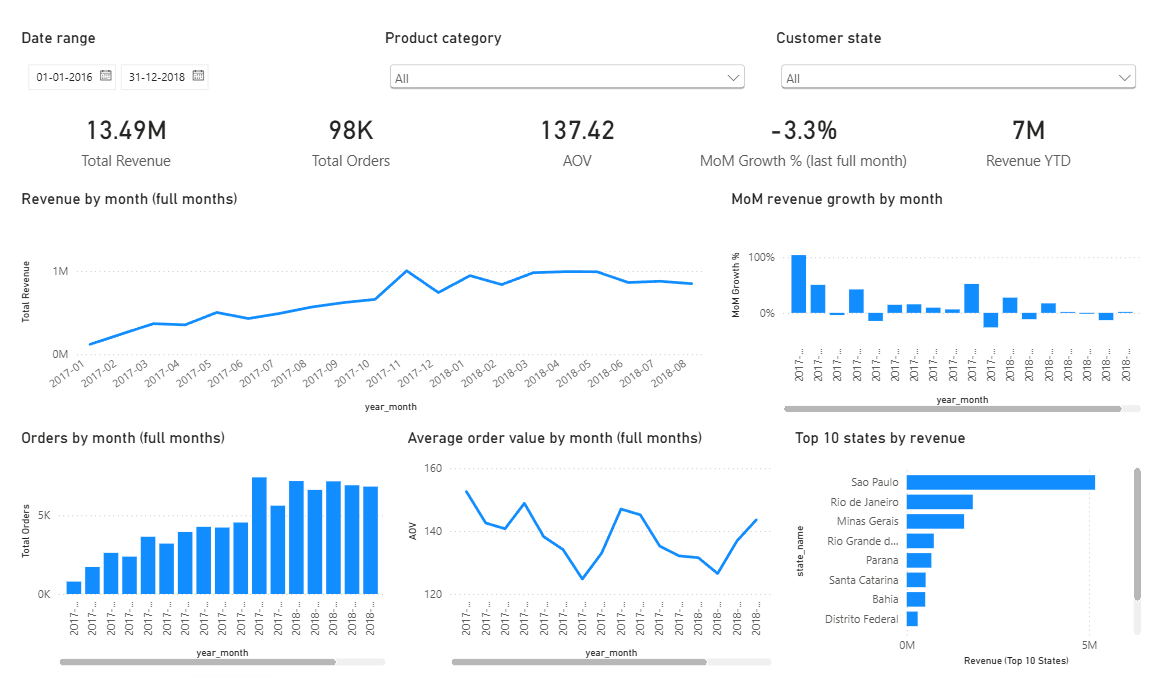

The dashboard page shown, as its layout file describes it:
{"tool":"powerbi","page":{"name":"Sales Overview","canvas":[1280,720],"ordinal":0},"visuals":[{"type":"card","fields":{"Values":["fact_order_items.Total Revenue"]},"box":[20,84,240,86],"z":1},{"type":"card","fields":{"Values":["fact_order_items.Total Orders"]},"box":[268,84,240,86],"z":2},{"type":"card","fields":{"Values":["fact_order_items.AOV"]},"box":[516,84,240,86],"z":3},{"type":"card","fields":{"Values":["fact_order_items.MoM Growth % (last full month)"]},"box":[764,84,240,86],"z":4},{"type":"card","fields":{"Values":["fact_order_items.Revenue YTD"]},"box":[1012,84,240,86],"z":5},{"type":"lineChart","title":"Revenue by month (full months)","fields":{"Category":["dim_date.year_month"],"Y":["fact_order_items.Total Revenue"]},"box":[20,182,760,250],"z":10},{"type":"clusteredColumnChart","title":"MoM revenue growth by month","fields":{"Category":["dim_date.year_month"],"Y":["fact_order_items.MoM Growth %"]},"box":[800,182,460,250],"z":11},{"type":"clusteredColumnChart","title":"Orders by month (full months)","fields":{"Category":["dim_date.year_month"],"Y":["fact_order_items.Total Orders"]},"box":[20,444,410,266],"z":12},{"type":"lineChart","title":"Average order value by month (full months)","fields":{"Category":["dim_date.year_month"],"Y":["fact_order_items.AOV"]},"box":[445,444,410,266],"z":13},{"type":"clusteredBarChart","title":"Top 10 states by revenue","fields":{"Category":["dim_state.state_name"],"Y":["fact_order_items.Revenue (Top 10 States)"]},"box":[870,444,390,266],"z":14},{"type":"slicer","title":"Date range","fields":{"Values":["dim_date.date"]},"box":[20,6,380,72],"z":100},{"type":"slicer","title":"Product category","fields":{"Values":["dim_product.category"]},"box":[420,6,410,72],"z":101},{"type":"slicer","title":"Customer state","fields":{"Values":["dim_state.state_name"]},"box":[850,6,410,72],"z":102}]}

Visuals, with their boxes on the page's 1280x720 design canvas (x1, y1, x2, y2). These are canvas units, not pixel positions in the 1162x678 screenshot, which may show the page scaled, cropped or inside an application window:
card - fact_order_items.Total Revenue: select_region(20, 84, 260, 170)
card - fact_order_items.Total Orders: select_region(268, 84, 508, 170)
card - fact_order_items.AOV: select_region(516, 84, 756, 170)
card - fact_order_items.MoM Growth % (last full month): select_region(764, 84, 1004, 170)
card - fact_order_items.Revenue YTD: select_region(1012, 84, 1252, 170)
"Revenue by month (full months)" lineChart: select_region(20, 182, 780, 432)
"MoM revenue growth by month" clusteredColumnChart: select_region(800, 182, 1260, 432)
"Orders by month (full months)" clusteredColumnChart: select_region(20, 444, 430, 710)
"Average order value by month (full months)" lineChart: select_region(445, 444, 855, 710)
"Top 10 states by revenue" clusteredBarChart: select_region(870, 444, 1260, 710)
"Date range" slicer: select_region(20, 6, 400, 78)
"Product category" slicer: select_region(420, 6, 830, 78)
"Customer state" slicer: select_region(850, 6, 1260, 78)
